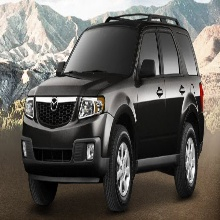no damage: (21, 13, 205, 212)
